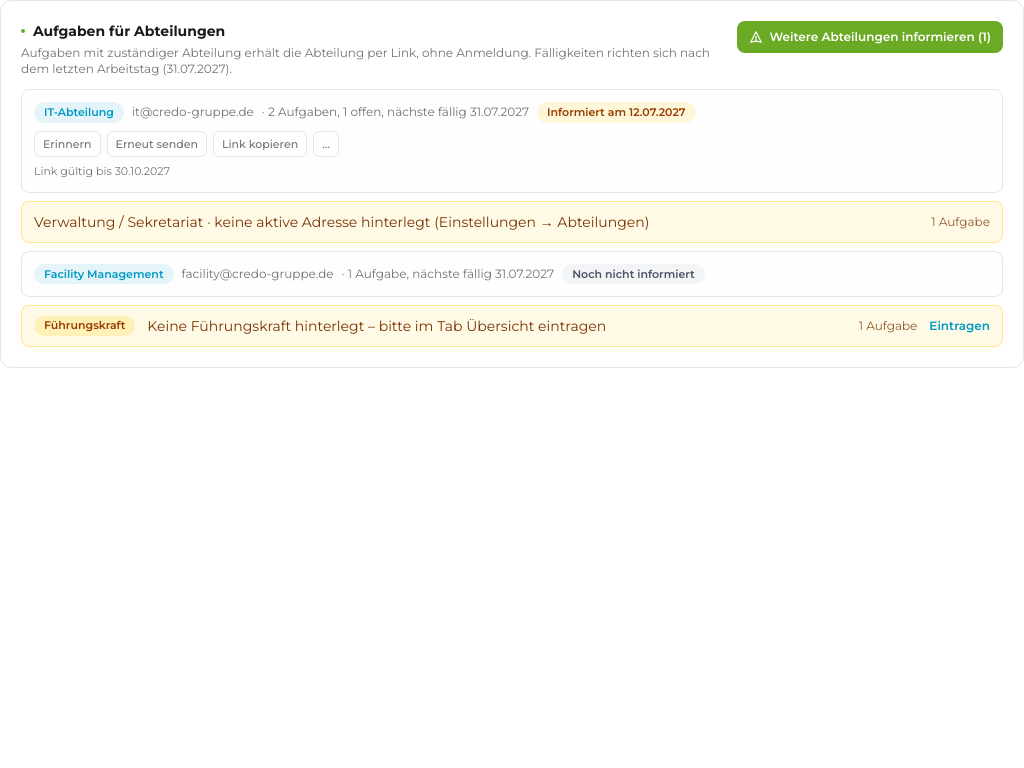
Scenario: Link erneuern… › „Abbrechen“ löst nichts aus
Click the button named "Weitere Aktionen für IT-Abteilung" at (326, 144), box [313,130,339,157]
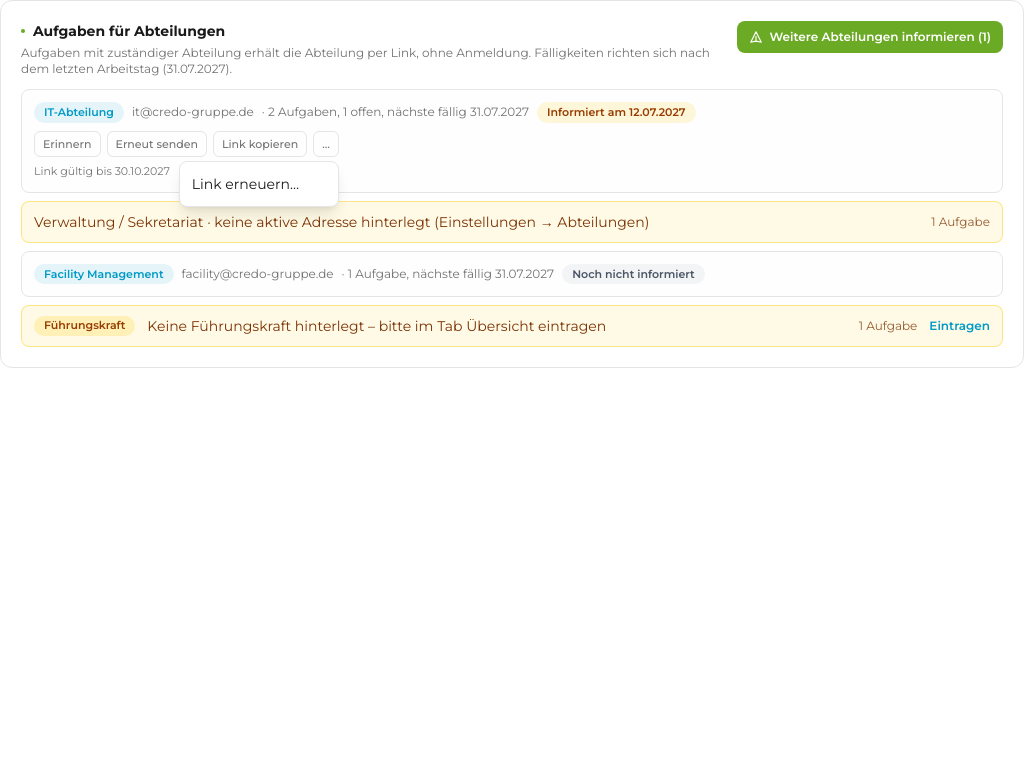
Click the menu item "Link erneuern…" at (259, 184), box [180,166,338,202]
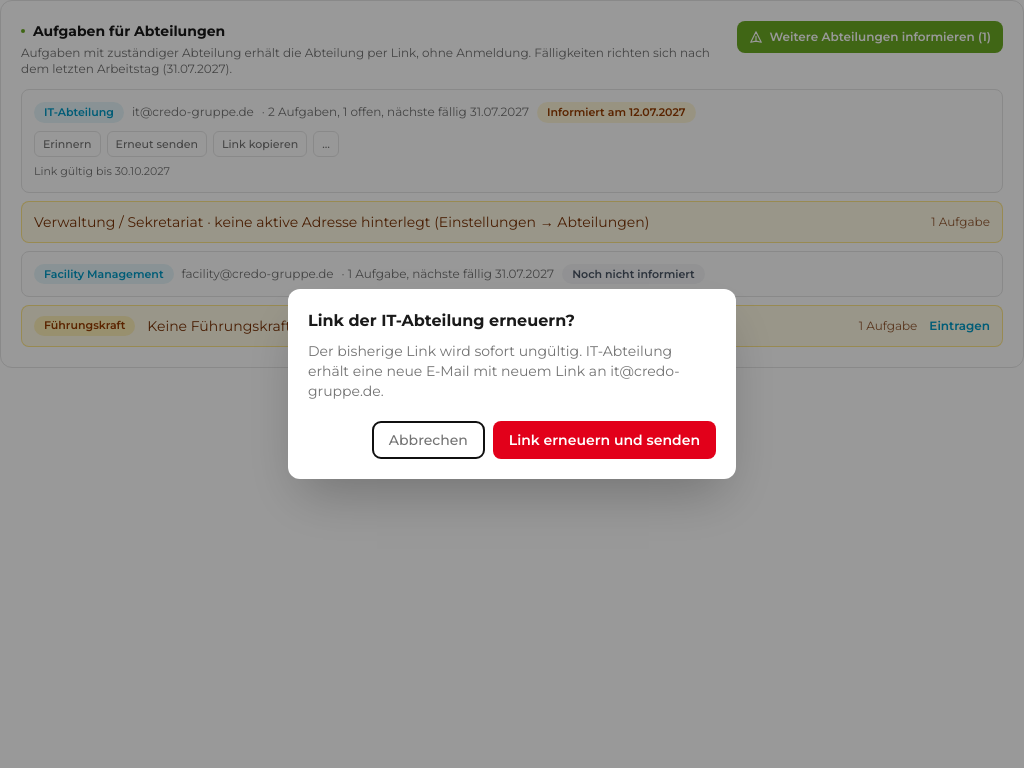
Click the button "Abbrechen" at (428, 440), box [372,421,485,459]
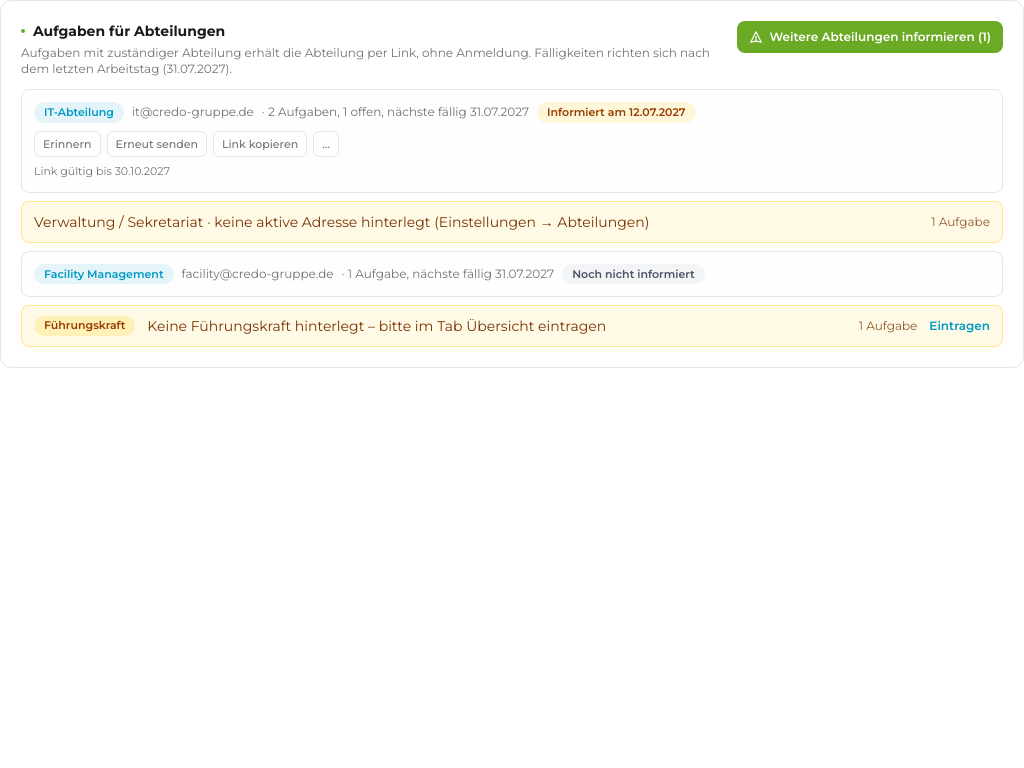
Expected: the dialog is gone
